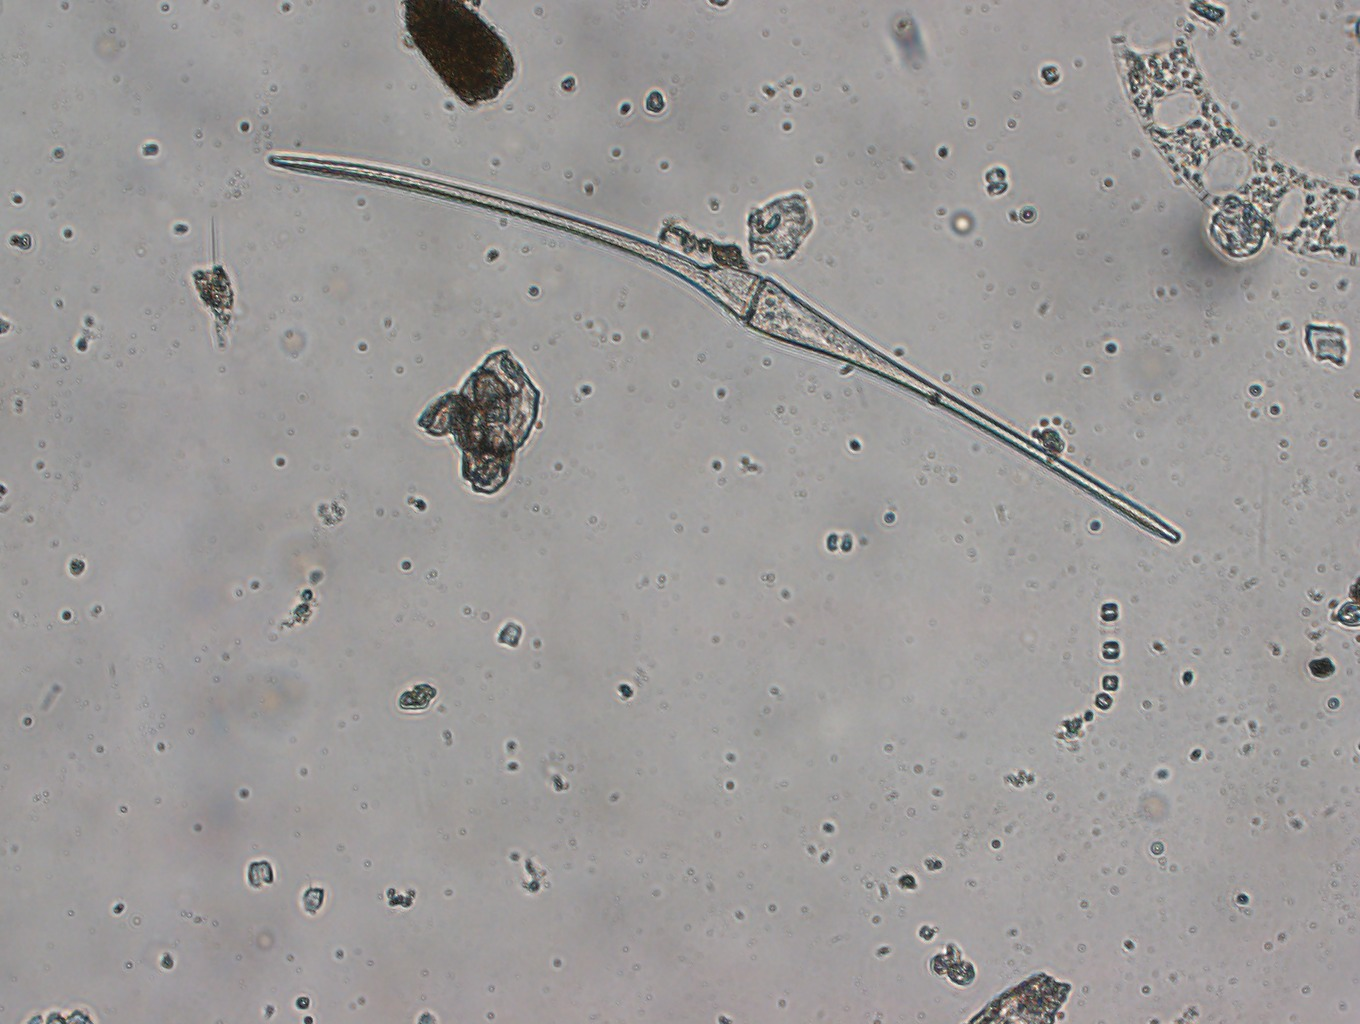ceratium fusus: (261, 153, 1189, 545)
eucampia: (1110, 27, 1360, 268)
